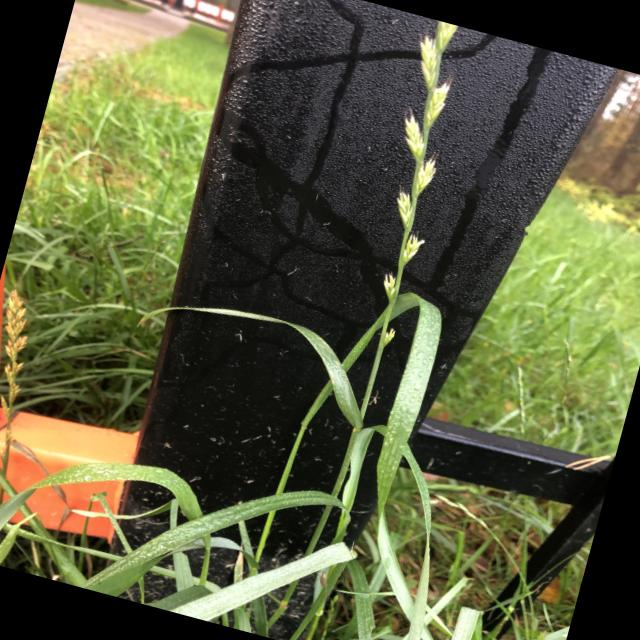Lolium: (339, 20, 489, 342), (0, 293, 51, 433)
